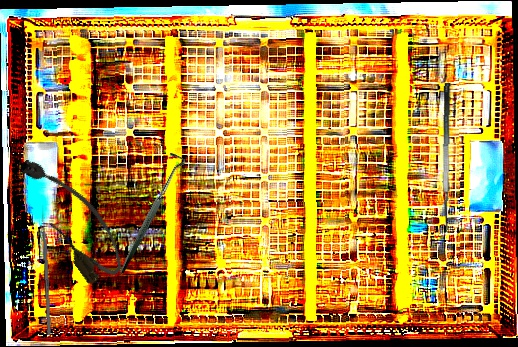Cannula: (11, 143, 133, 290)
Hook Surgical: (80, 148, 218, 275)
Pusher: (40, 204, 52, 336)
Spatula Surgical: (438, 82, 464, 234)
